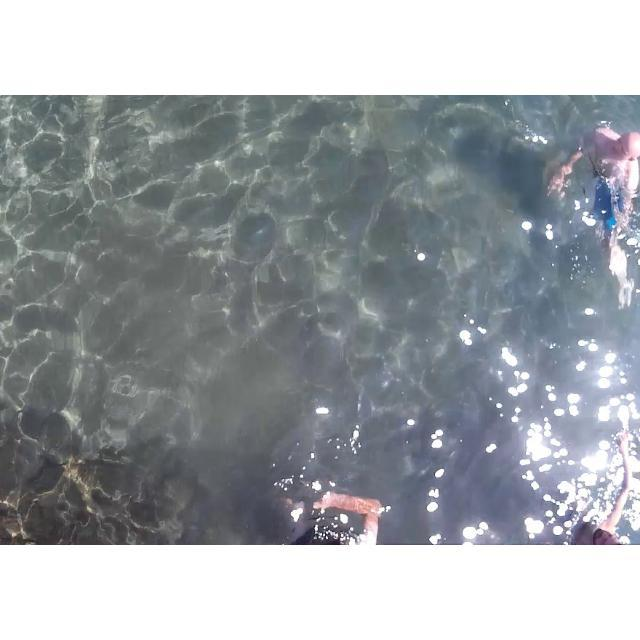human: (545, 95, 637, 277)
